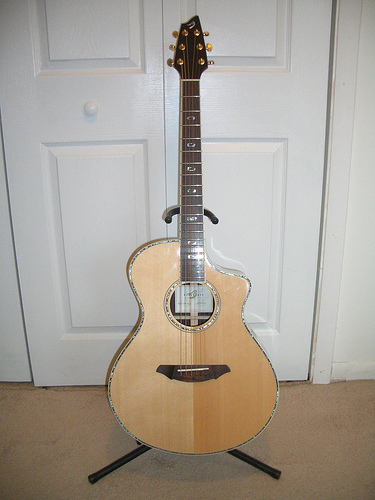guitar: (103, 14, 282, 458)
